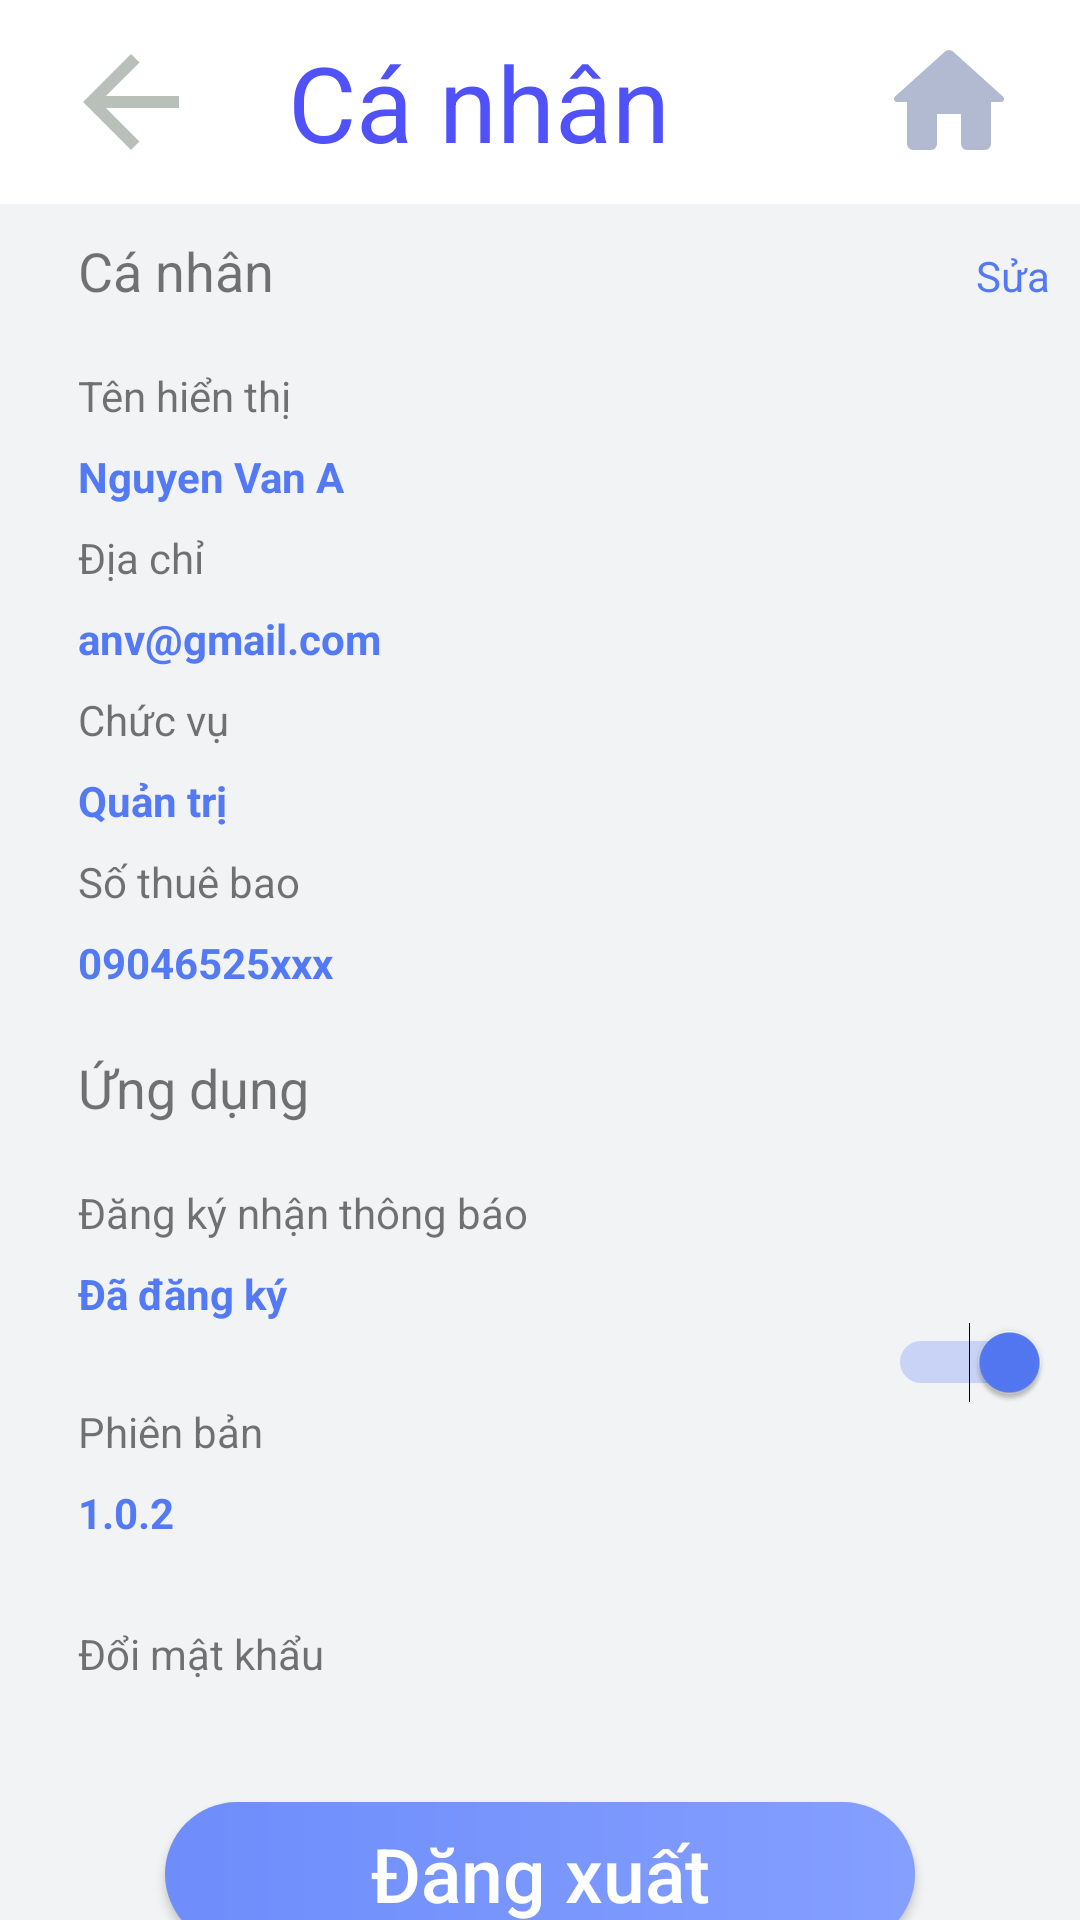

Point at icon controls on the screen. Image size 1080w x 1920h, points as point (x, y).
back: point (131, 102)
home: point (949, 100)
